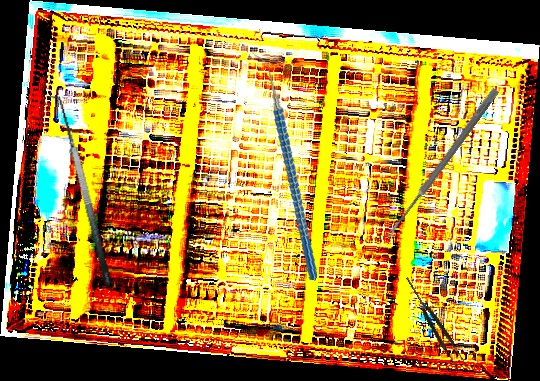Chopper: (224, 49, 344, 281)
Spatula Surgical: (43, 91, 115, 292)
Surgical Spoon: (384, 87, 500, 240)
Tissue Forceps: (401, 274, 468, 371)
